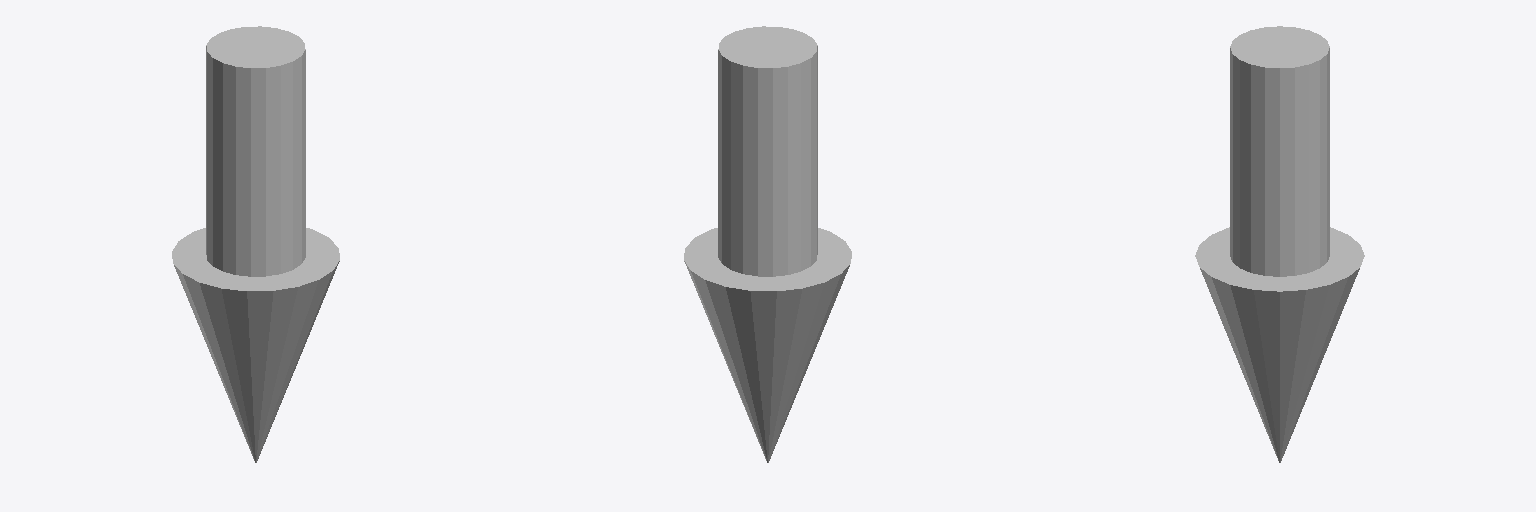
The model's file is arrow.obj.
3 views of the same model, side by side, from view 1: azimuth 30°, elevation 25°; view 2: azimuth 150°, elevation 25°; view 3: azimuth 270°, elevation 25° (orthographic).
Visible parts, largest first — view 1: pCylinder2; view 2: pCylinder2; view 3: pCylinder2.
Part boxes in pixels (x1,y1,x2,y2): pCylinder2: (172,26,339,462); pCylinder2: (684,26,851,462); pCylinder2: (1195,26,1364,462).
Bounding box in the file's own units: 0.4508 × 1.22 × 0.4508.